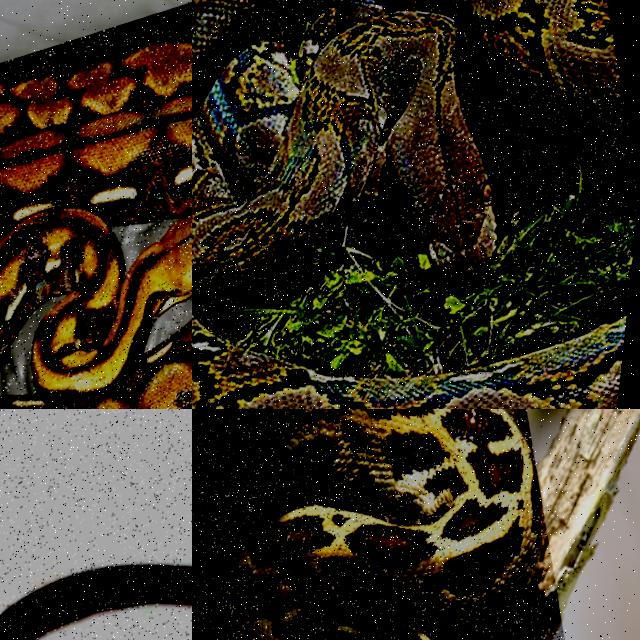Malayopython reticulatus: (192, 0, 632, 304), (0, 39, 191, 408)
Naja kaouthia: (0, 566, 191, 639)
Python bivittatus: (192, 409, 540, 639)
snake: (192, 0, 632, 304), (192, 409, 540, 639), (0, 39, 191, 408), (0, 566, 191, 639)
